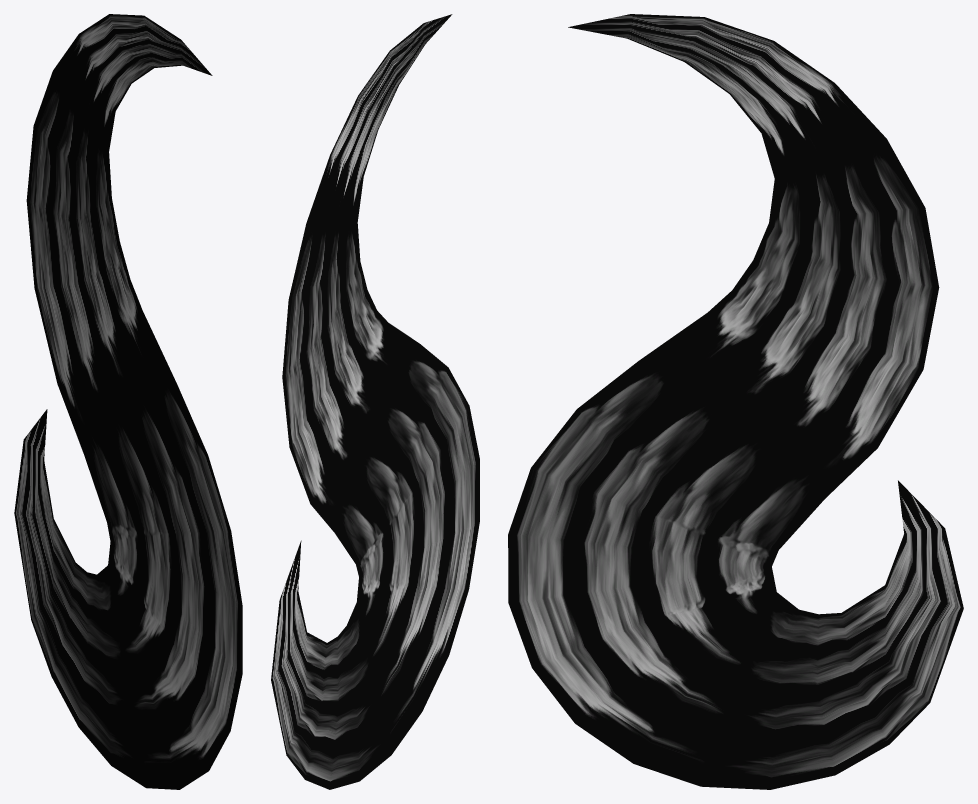
The model's file is Amateras1.fbx.
3 views of the same model, side by side, from view 1: azimuth 30°, elevation 25°; view 2: azimuth 150°, elevation 25°; view 3: azimuth 270°, elevation 25° (orthographic). The views are drawn at different scales.
Parts seen in each view (by area): view 1: SM_WEP_Eff_Amaterasu_A_01.mo; view 2: SM_WEP_Eff_Amaterasu_A_01.mo; view 3: SM_WEP_Eff_Amaterasu_A_01.mo.
Boxes of the visible parts, x1,y1,x2,y2 form: SM_WEP_Eff_Amaterasu_A_01.mo: (14, 14, 242, 789); SM_WEP_Eff_Amaterasu_A_01.mo: (271, 14, 479, 789); SM_WEP_Eff_Amaterasu_A_01.mo: (508, 14, 963, 789).
Size of the model in its own units: 7.63e-06 by 31.13 by 16.57.
